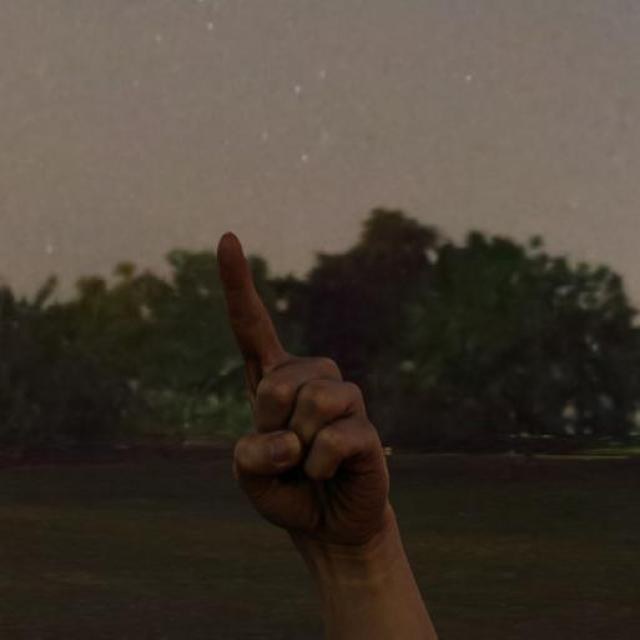Z: (213, 223, 402, 554)
